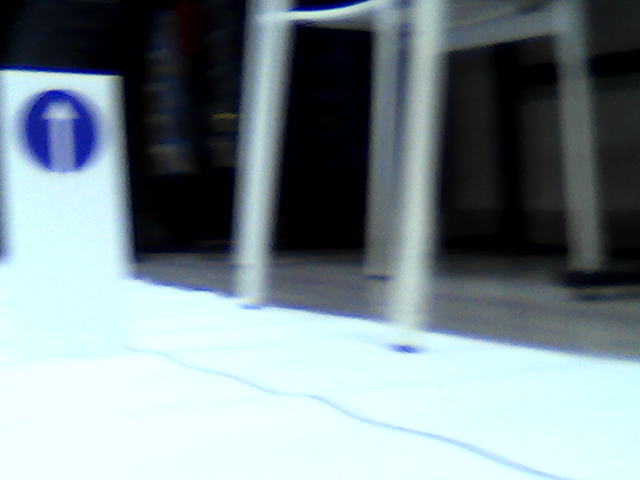forw: (18, 85, 104, 173)
